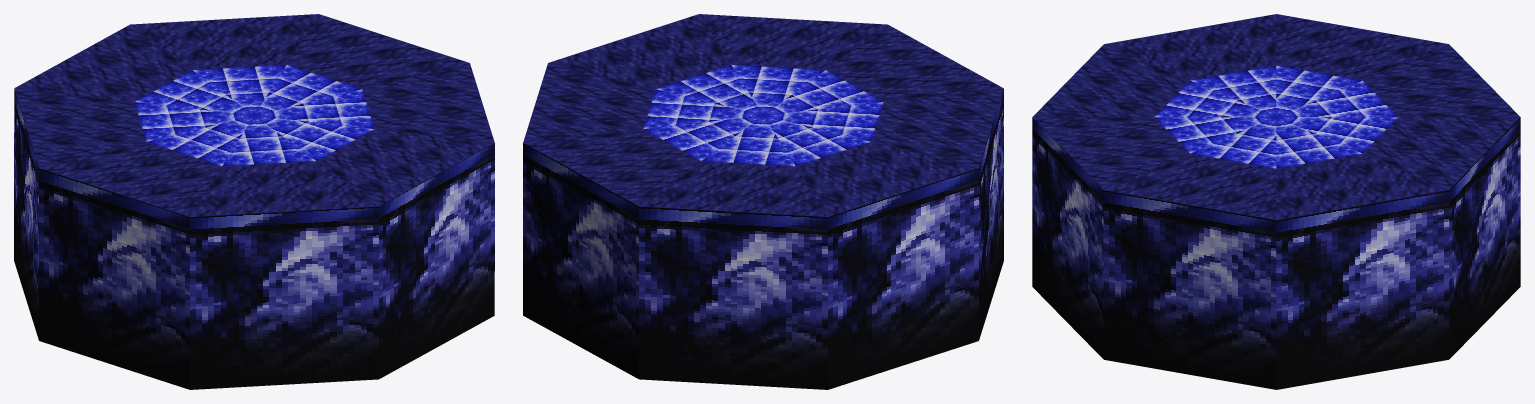
File: bowser stadium 1.obj
3 renders of one model, left to right at view 1: azimuth 30°, elevation 25°; view 2: azimuth 150°, elevation 25°; view 3: azimuth 270°, elevation 25°, orthographic.
Bounding box in the file's own units: 6.14 × 2.35 × 6.14.
3 materials, 3 textured.
